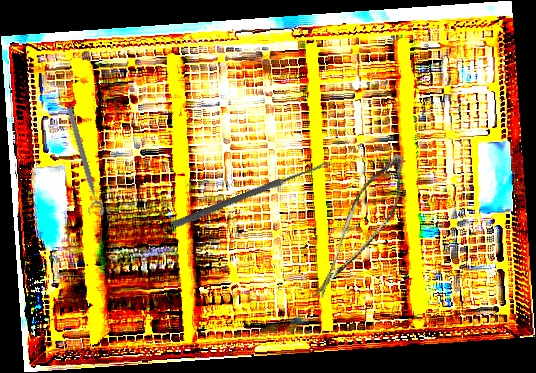Fixation Ring: (58, 105, 106, 220)
Micro Scissor: (312, 143, 413, 316)
Surgical Spoon: (171, 158, 332, 230)
